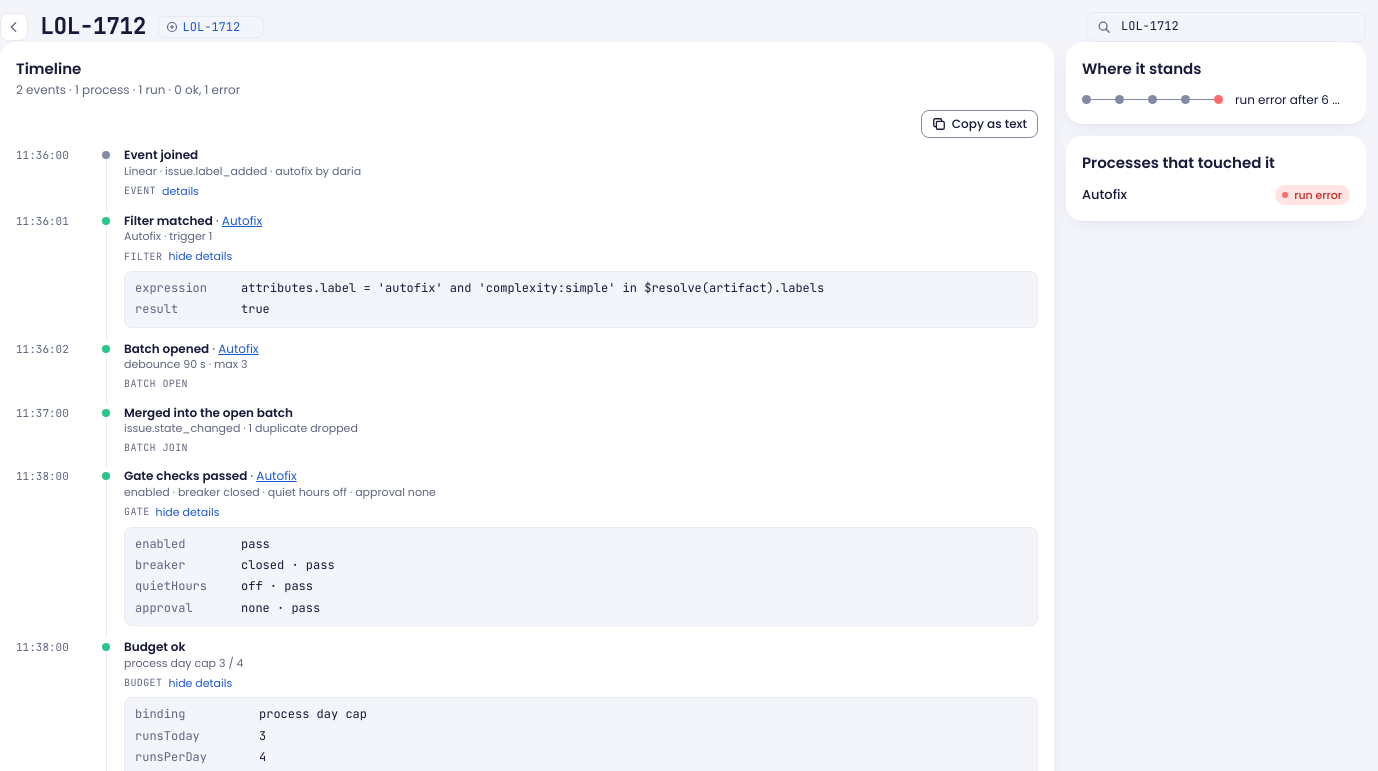
it: Trace › copies the server text of the timeline
The image size is (1378, 771).
Click the button "Copy as text" at coordinates (979, 124), box x1=921 y1=110 x2=1038 y2=138
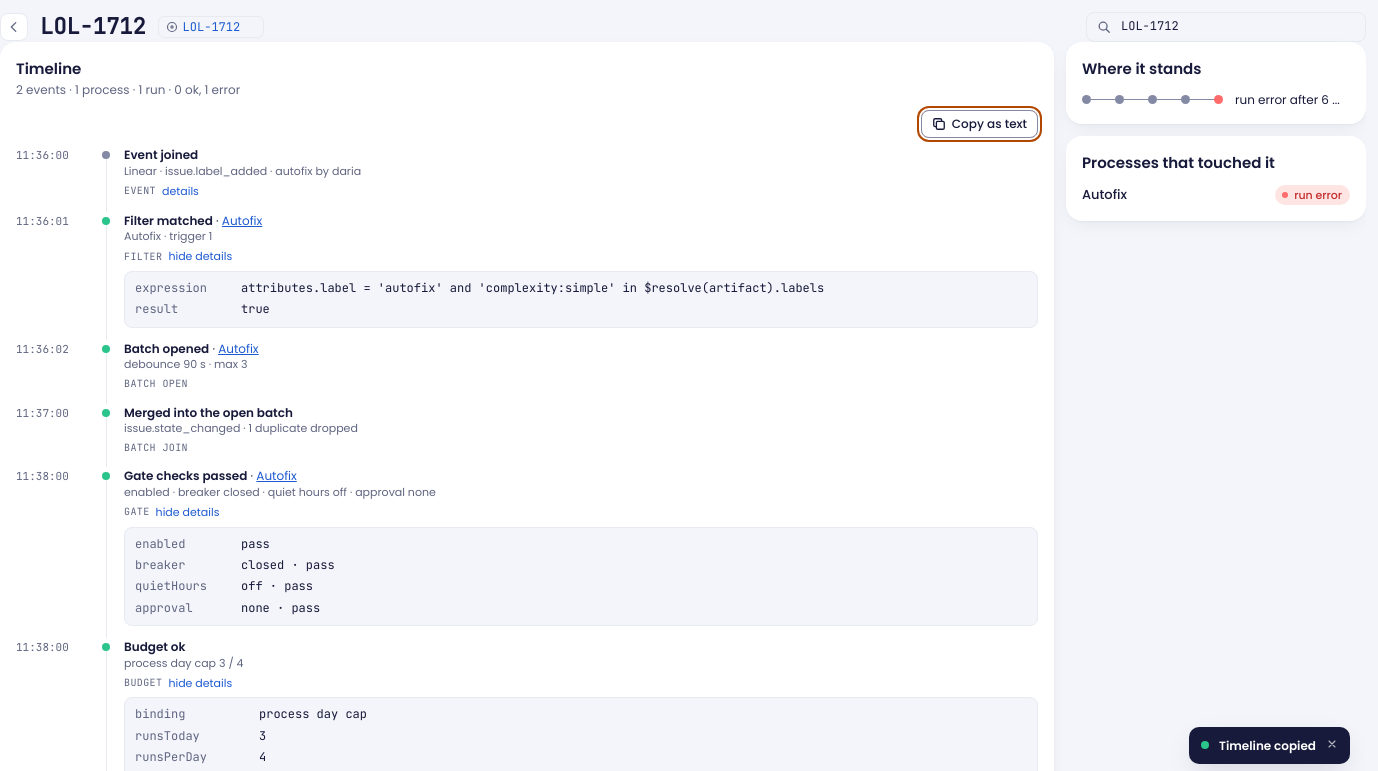
Now the text "Timeline copied" is shown, box x1=1219 y1=737 x2=1316 y2=754
